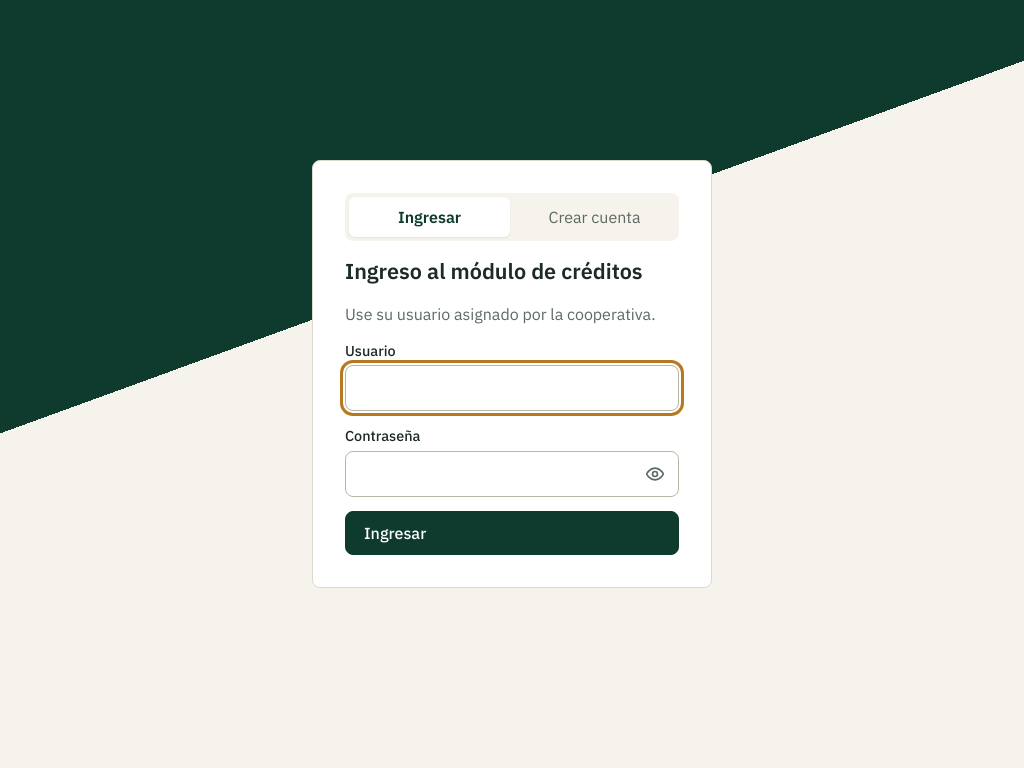
Test: registro › no envía si la contraseña es débil o no coincide
Click the button "Crear cuenta".
click(594, 217)  # box left=514, top=197, right=675, bottom=237
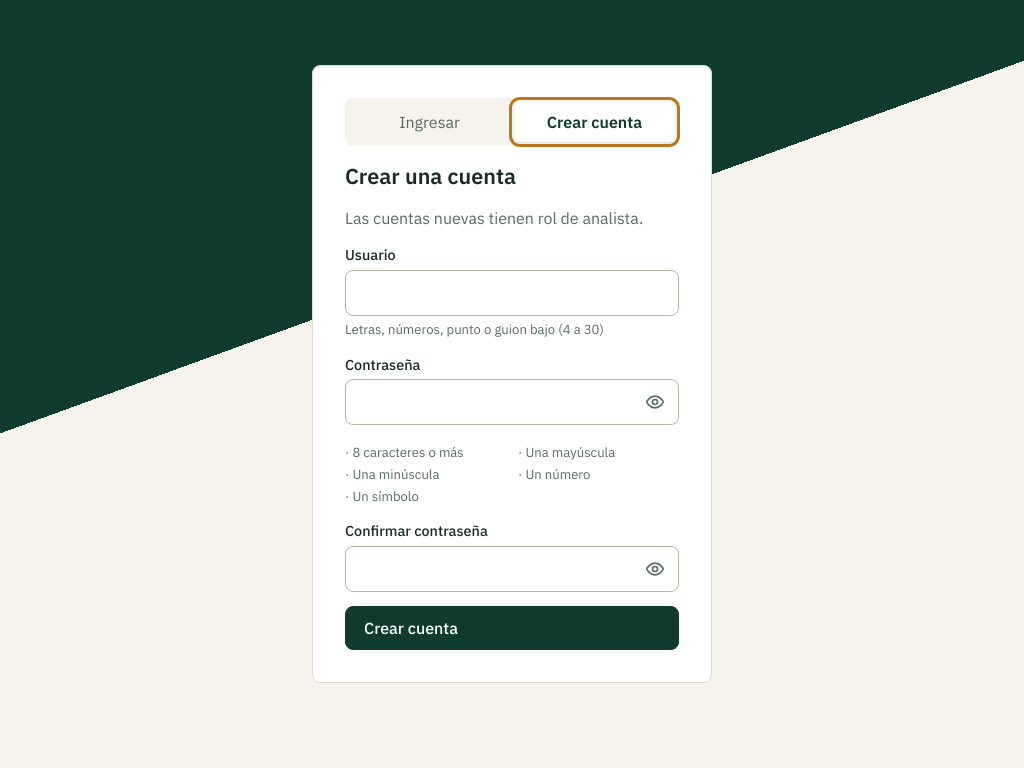
Type "maria.lopez" into the field labelled "Usuario".
click(512, 293); type("maria.lopez")  # box left=345, top=270, right=679, bottom=316
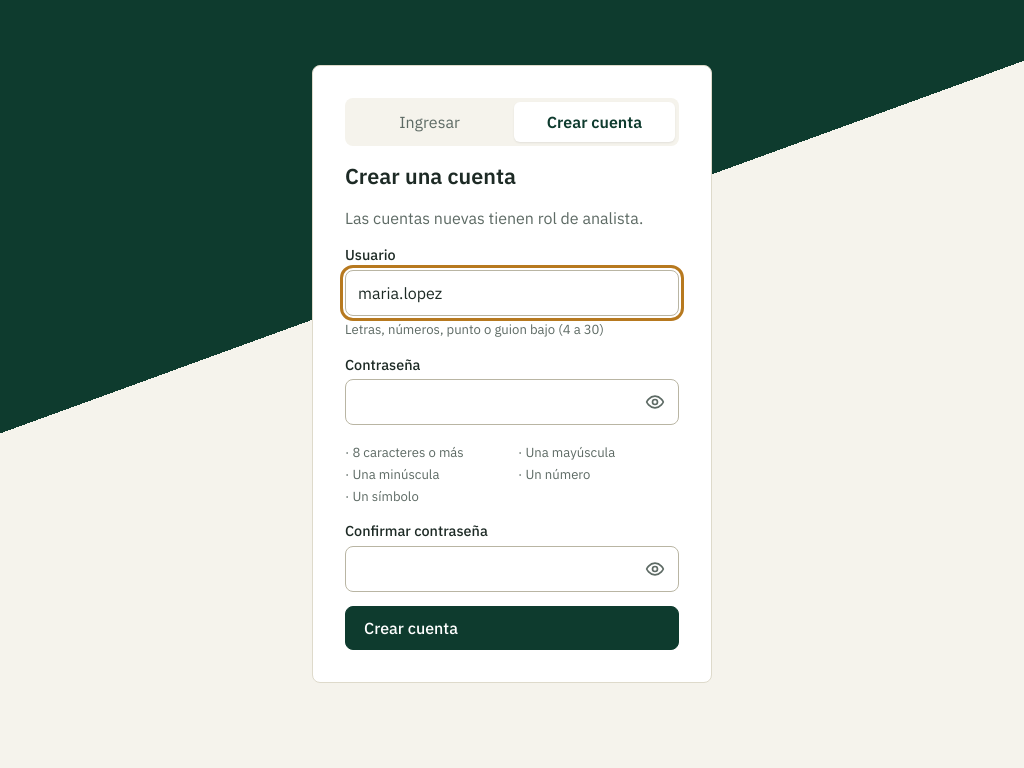
Type "Clave_Segura1" into the password field labelled "Contraseña".
click(512, 402); type("Clave_Segura1")  # box left=345, top=379, right=679, bottom=425
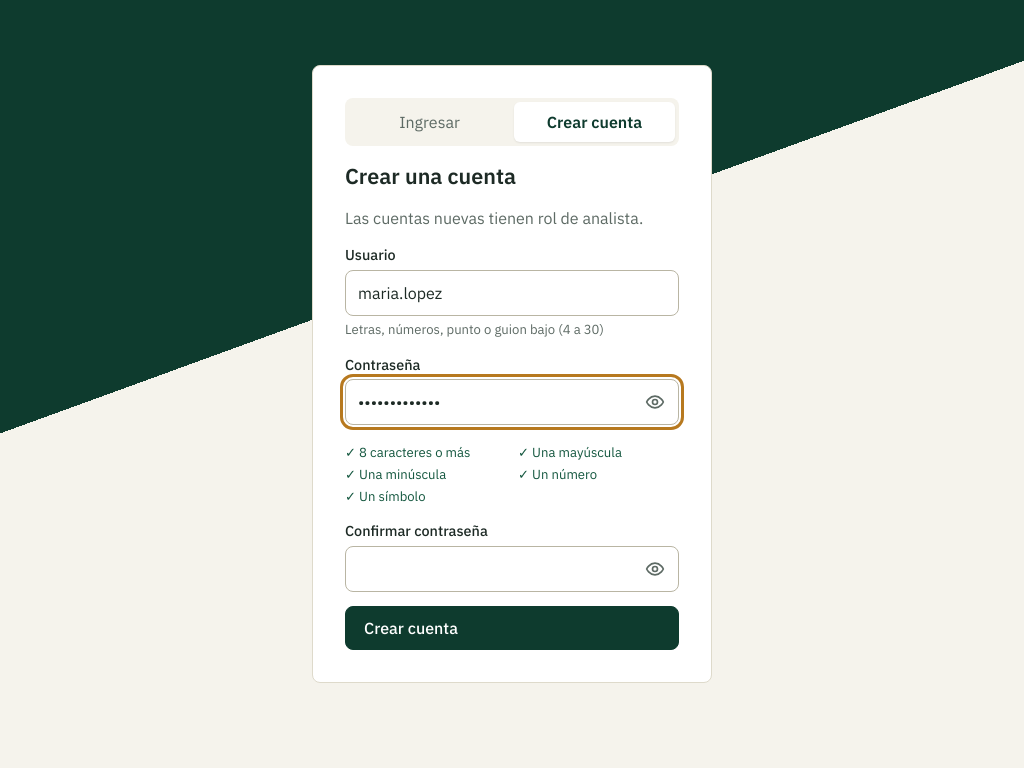
Type "Otra_Clave2" into the password field labelled "Confirmar contraseña".
click(512, 569); type("Otra_Clave2")  # box left=345, top=546, right=679, bottom=592
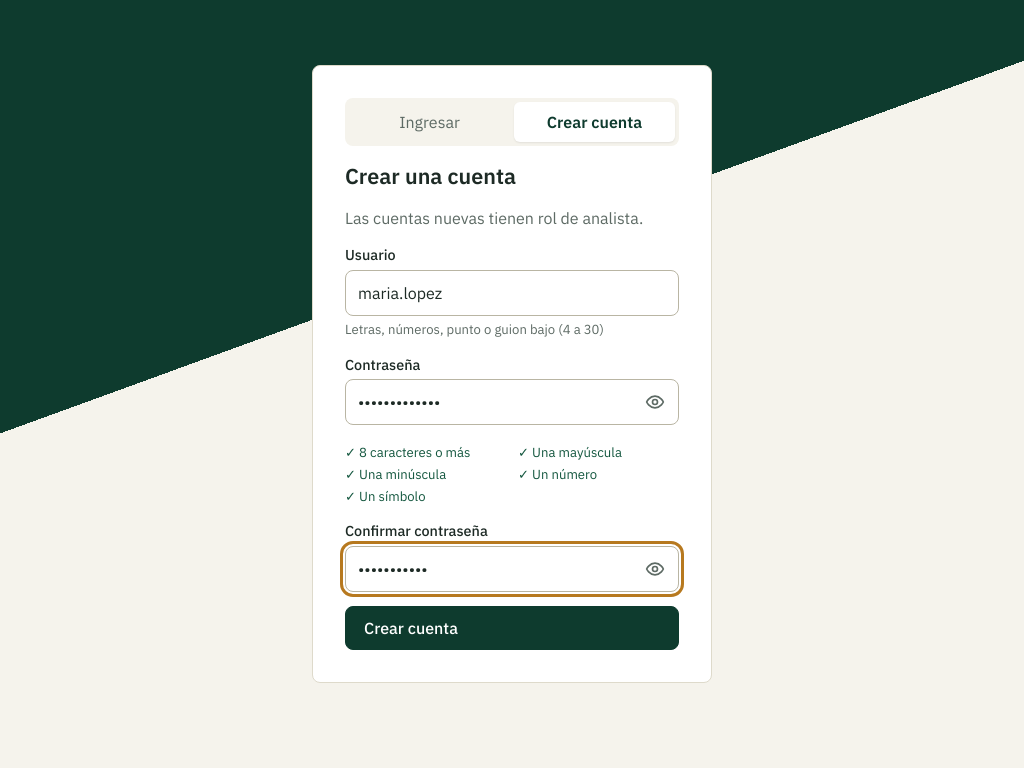
Click the 2nd button "Crear cuenta".
click(411, 628)  # box left=345, top=606, right=679, bottom=650
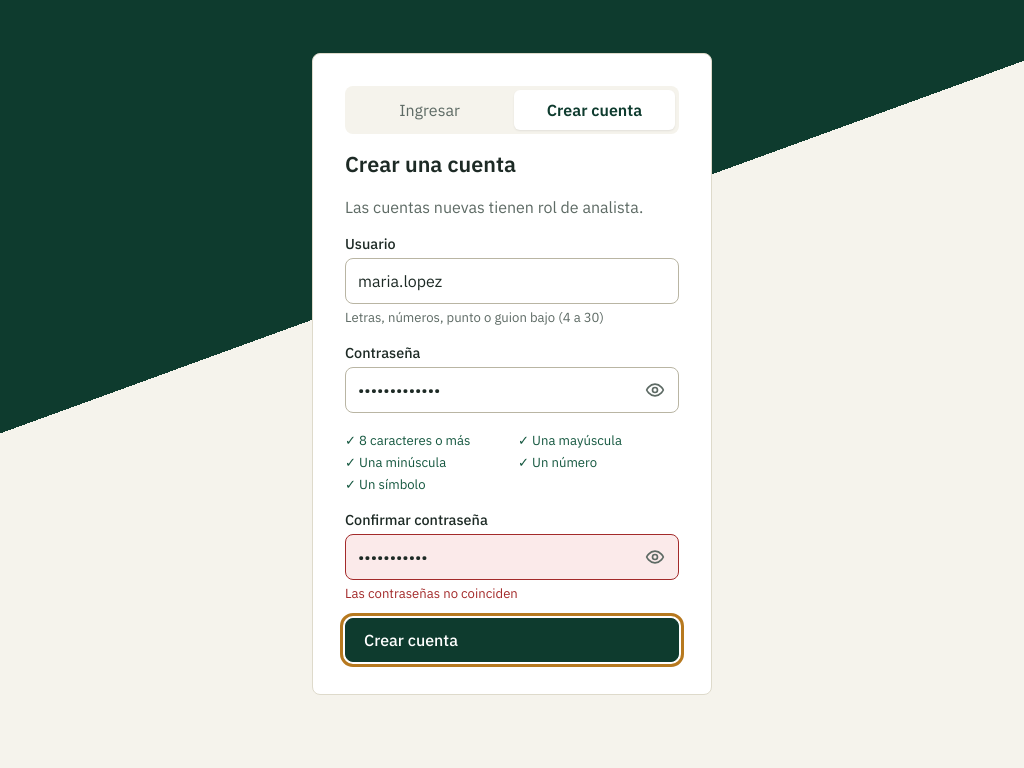
expect the text "Las contraseñas no coinciden" is shown: met, box left=345, top=585, right=518, bottom=602
